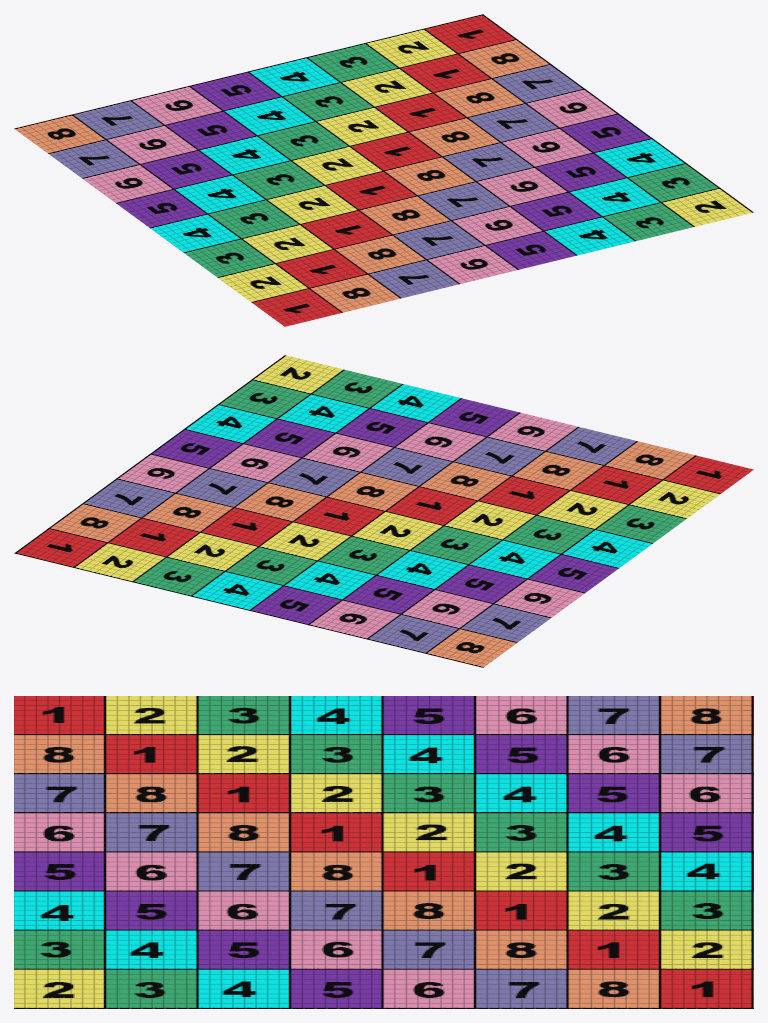
File: watertess_ring1_corner.fbx
3 views of the same model, one above another, from view 1: azimuth 30°, elevation 25°; view 2: azimuth 150°, elevation 25°; view 3: azimuth 270°, elevation 25° (orthographic). The views are drawn at different scales.
Parts seen in each view (by area): view 1: watertess_ring1_corner; view 2: watertess_ring1_corner; view 3: watertess_ring1_corner.
Part boxes in pixels (box(x1,y1,x2,y2)): watertess_ring1_corner: box(14, 14, 753, 326); watertess_ring1_corner: box(14, 355, 753, 667); watertess_ring1_corner: box(14, 696, 753, 1008).
Bounding box in the file's own units: 128 × 2.09e-05 × 128.
